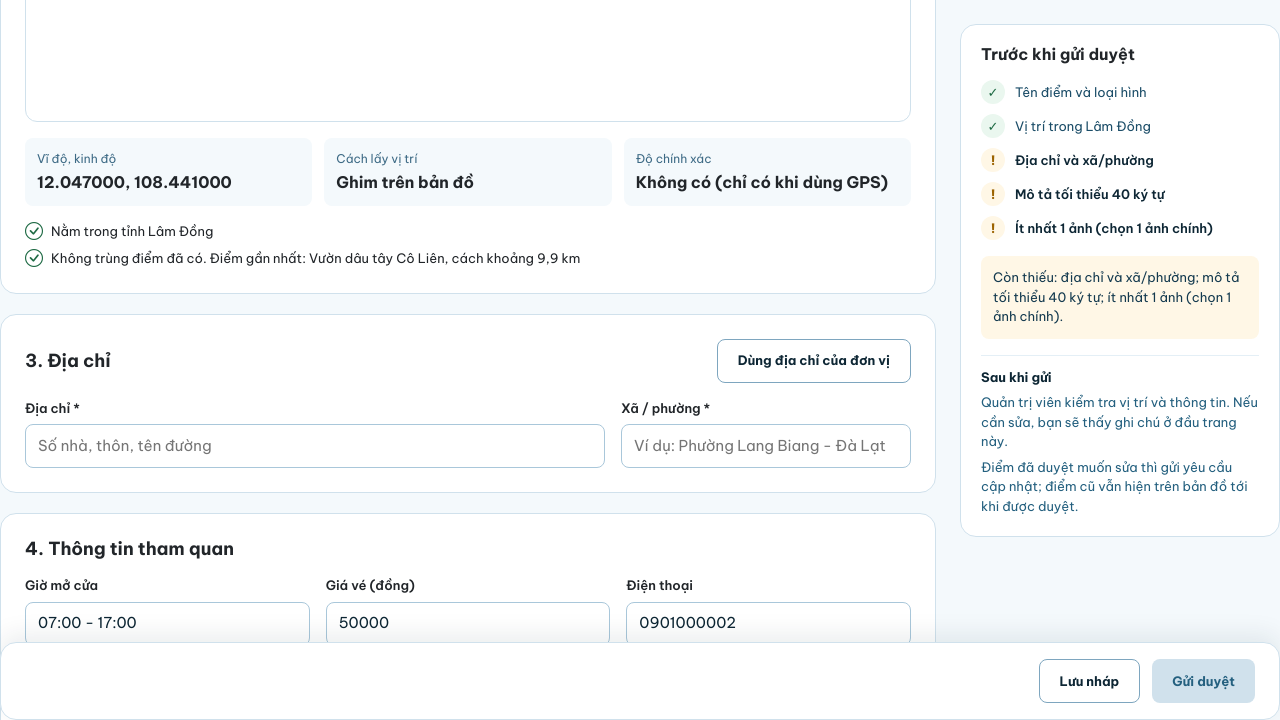
it: SubjectLocationEditorView › ban nhap thieu thong tin thi khoa nut gui duyet va liet ke muc con thieu
(page scrolled)
Expected: the button "Gửi duyệt" is disabled, [1152, 659, 1255, 703]
Expected: the text with id "missing-summary" shows "địa chỉ và xã/phường", [993, 269, 1239, 324]
Click the button "Dùng địa chỉ của đơn vị". click: (814, 361)
box: [717, 339, 911, 383]
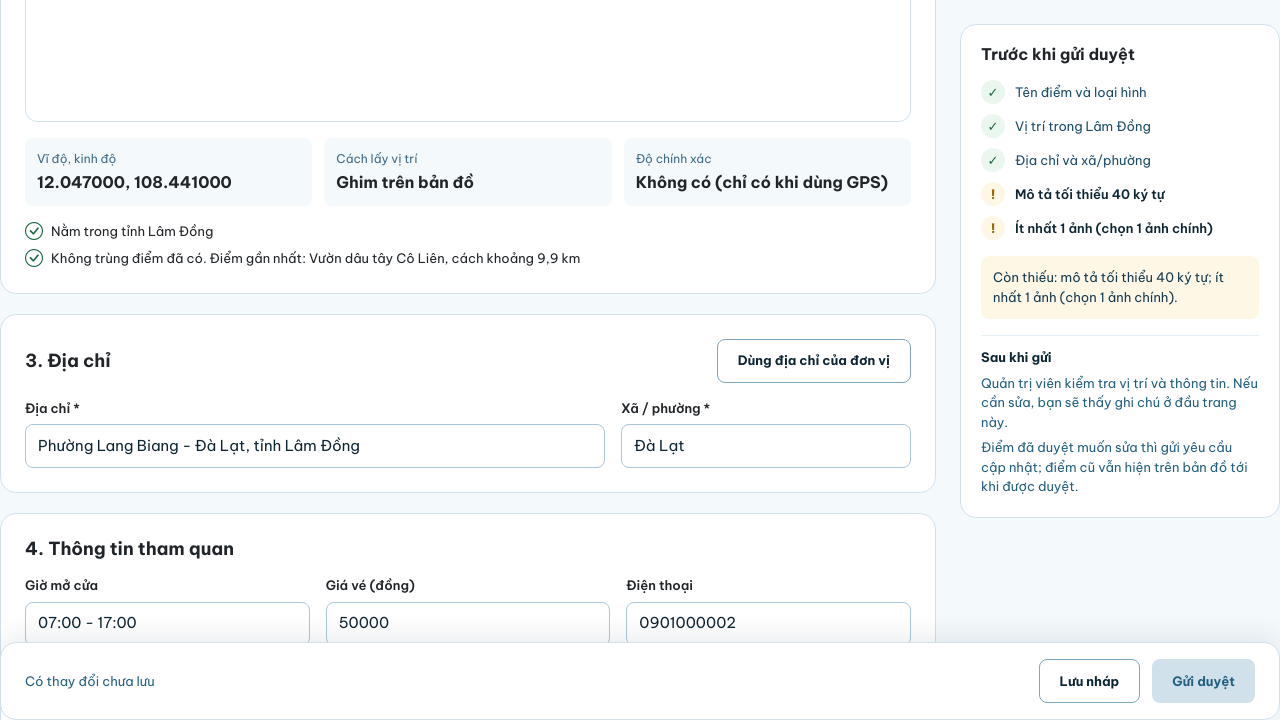
Expected: the field labelled "Xã / phường *" holds "Đà Lạt", [621, 424, 911, 468]
